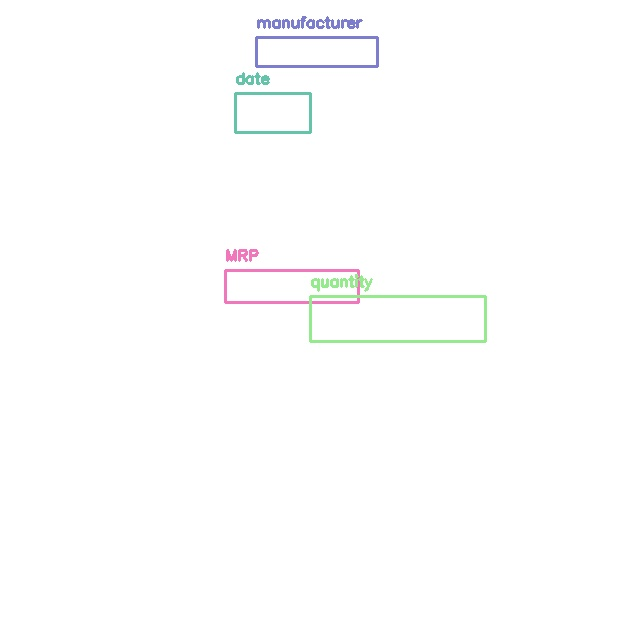MRP: (225, 270, 358, 302)
date: (235, 93, 310, 132)
manufacturer: (256, 37, 377, 66)
quantity: (310, 296, 485, 341)
